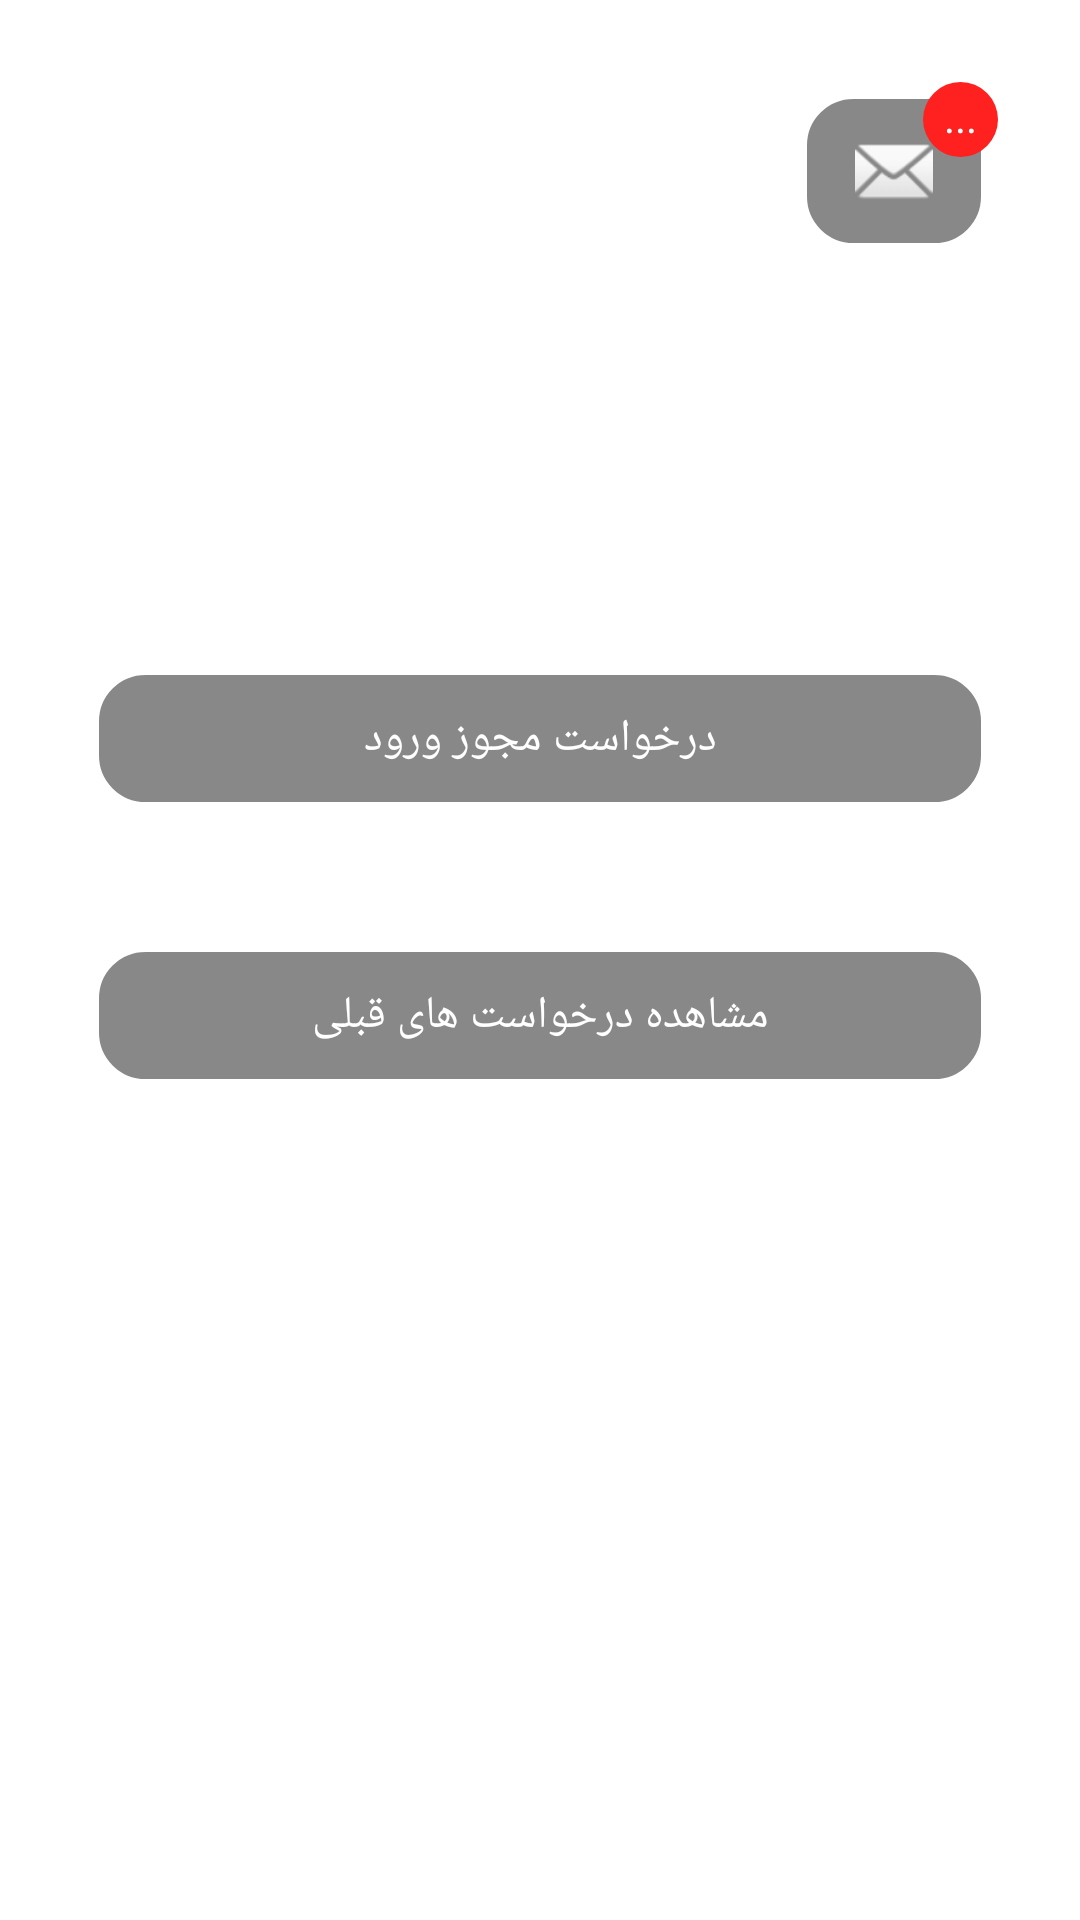

Icon bounding boxes for this 1080w x 1920h phone screenshot, format [x1, y1, x2, y2]:
email: [807, 96, 984, 243]
